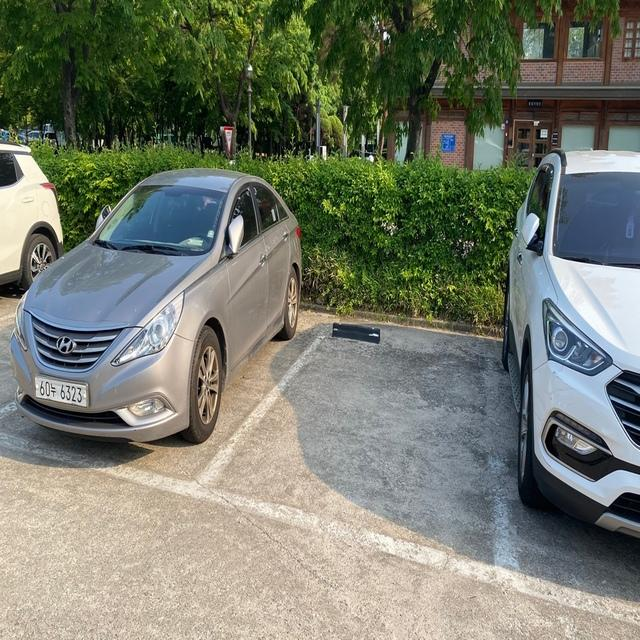empty: (187, 316, 524, 592)
occupied: (20, 176, 307, 442)
